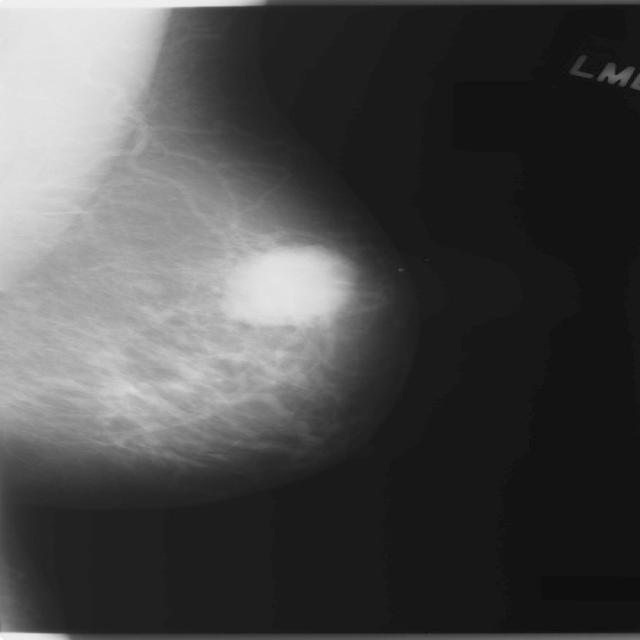tumour: (219, 242, 355, 326)
